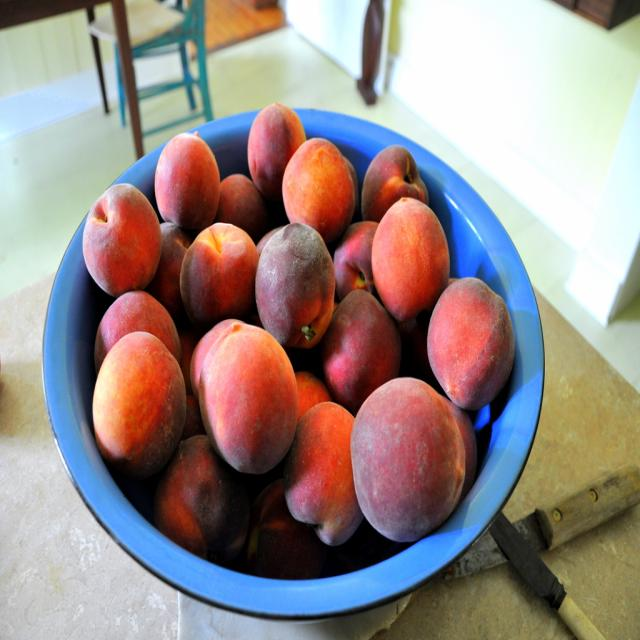Peach: (80, 102, 515, 548), (369, 201, 446, 315)
